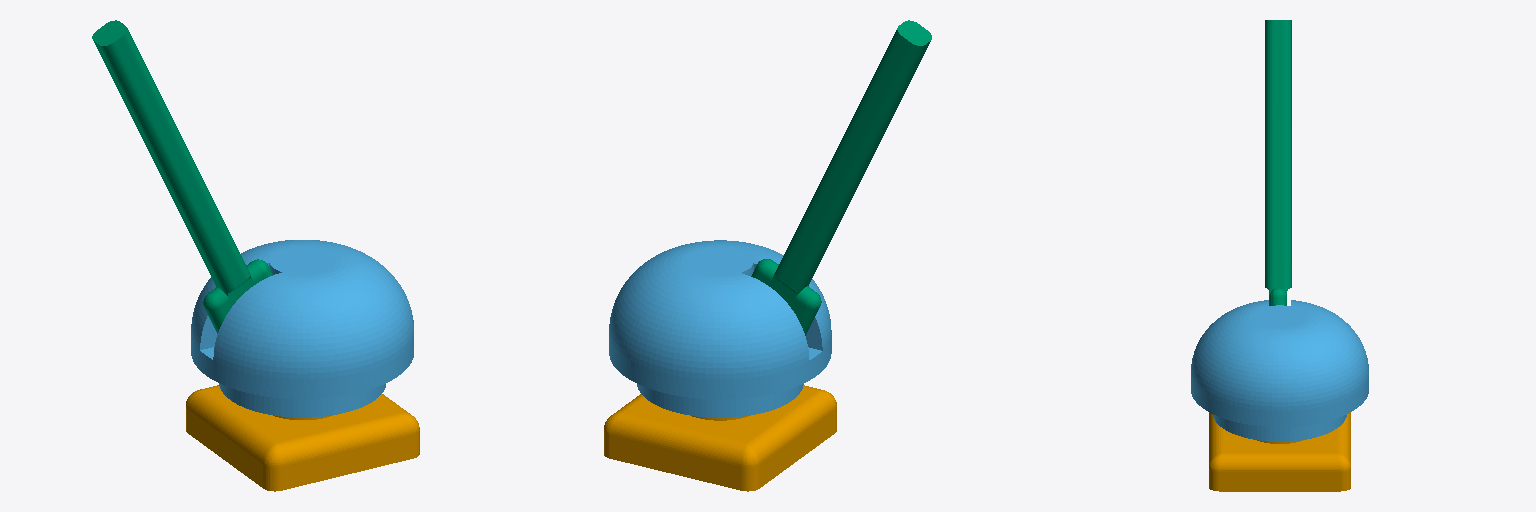
robot.urdf — Stationary2:
<?xml version="1.0" ?>
<robot name="Stationary2">

<material name="silver">
  <color rgba="0.700 0.700 0.700 1.000"/>
</material>

<link name="base_link">
  <inertial>
    <origin xyz="0 0 0" rpy="0 0 0"/>
    <mass value="1177.2759066350427"/>
    <inertia ixx="63.112479601788095" iyy="63.11247960178815" izz="106.46102483708898" ixy="2.1316282072803006e-14" iyz="2.842170943040401e-14" ixz="3.197442310920451e-14"/>
  </inertial>
  <visual>
    <origin xyz="0 0 0" rpy="0 0 0"/>
    <geometry>
      <mesh filename="meshes/base_link.stl" scale="0.001 0.001 0.001"/>
    </geometry>
    <material name="silver"/>
    <material/>
  </visual>
  <collision>
    <origin xyz="0 0 0" rpy="0 0 0"/>
    <geometry>
      <mesh filename="meshes/base_link.stl" scale="0.001 0.001 0.001"/>
    </geometry>
  </collision>
</link>

<link name="top_link1">
  <inertial>
    <origin xyz="0.012583396533743935 -0.00011332204850028615 0.30674596203189336" rpy="0 0 0"/>
    <mass value="2384.929798533893"/>
    <inertia ixx="175.79044494004165" iyy="165.97616164439933" izz="255.42395206575873" ixy="-0.07769351133150337" iyz="0.02384278437557441" ixz="-2.3775717701918495"/>
  </inertial>
  <visual>
    <origin xyz="0.110197 0.394703 -0.387866" rpy="0 0 0"/>
    <geometry>
      <mesh filename="meshes/top_link1.stl" scale="0.001 0.001 0.001"/>
    </geometry>
    <material name="silver"/>
    <material/>
  </visual>
  <collision>
    <origin xyz="0.110197 0.394703 -0.387866" rpy="0 0 0"/>
    <geometry>
      <mesh filename="meshes/top_link1.stl" scale="0.001 0.001 0.001"/>
    </geometry>
  </collision>
</link>

<link name="gun_link1">
  <inertial>
    <origin xyz="-0.32339267254868187 0.05000043011195898 0.693517784144477" rpy="0 0 0"/>
    <mass value="311.2806104005056"/>
    <inertia ixx="75.81633022547044" iyy="92.64316652922867" izz="17.716776526858098" ixy="5.338556263723149e-08" iyz="-1.1448344139353139e-07" ixz="34.620175924219325"/>
  </inertial>
  <visual>
    <origin xyz="0.385197 0.454441 -0.782866" rpy="0 0 0"/>
    <geometry>
      <mesh filename="meshes/gun_link1.stl" scale="0.001 0.001 0.001"/>
    </geometry>
    <material name="silver"/>
    <material/>
  </visual>
  <collision>
    <origin xyz="0.385197 0.454441 -0.782866" rpy="0 0 0"/>
    <geometry>
      <mesh filename="meshes/gun_link1.stl" scale="0.001 0.001 0.001"/>
    </geometry>
  </collision>
</link>

<joint name="Revolute_8" type="continuous">
  <origin xyz="-0.110197 -0.394703 0.387866" rpy="0 0 0"/>
  <parent link="base_link"/>
  <child link="top_link1"/>
  <axis xyz="-0.0 0.0 1.0"/>
</joint>
<transmission name="Revolute_8_tran">
  <type>transmission_interface/SimpleTransmission</type>
  <joint name="Revolute_8">
    <hardwareInterface>PositionJointInterface</hardwareInterface>
  </joint>
  <actuator name="Revolute_8_actr">
    <hardwareInterface>PositionJointInterface</hardwareInterface>
    <mechanicalReduction>1</mechanicalReduction>
  </actuator>
</transmission>

<joint name="Revolute_9" type="revolute">
  <origin xyz="-0.275 -0.059738 0.395" rpy="0 0 0"/>
  <parent link="top_link1"/>
  <child link="gun_link1"/>
  <axis xyz="-0.0 -1.0 0.0"/>
  <limit upper="1.134464" lower="-1.134464" effort="100" velocity="100"/>
</joint>
<transmission name="Revolute_9_tran">
  <type>transmission_interface/SimpleTransmission</type>
  <joint name="Revolute_9">
    <hardwareInterface>PositionJointInterface</hardwareInterface>
  </joint>
  <actuator name="Revolute_9_actr">
    <hardwareInterface>PositionJointInterface</hardwareInterface>
    <mechanicalReduction>1</mechanicalReduction>
  </actuator>
</transmission>

</robot>

--- Facts derived from the render (not from the file) ---
The picture shows the robot from 3 angles, left to right: view 1: azimuth 30°, elevation 25°; view 2: azimuth 150°, elevation 25°; view 3: azimuth 270°, elevation 25°; orthographic projection.
Model Stationary2 with 3 links and 2 joints (1 revolute, 1 continuous), rooted at base_link, posed every joint at zero.
Visible links, largest first — view 1: top_link1, base_link, gun_link1; view 2: top_link1, base_link, gun_link1; view 3: top_link1, base_link, gun_link1.
Link boxes in pixels (x1,y1,x2,y2): top_link1: (191,240,413,417); base_link: (186,385,419,491); gun_link1: (92,20,272,333); top_link1: (609,240,831,417); base_link: (604,385,836,491); gun_link1: (751,20,931,335); top_link1: (1191,300,1368,441); base_link: (1209,412,1350,491); gun_link1: (1265,20,1291,305).
Size in the robot's own frame: 1.57 by 0.9999 by 2.29 metres.
Meshes: 3 distinct files referenced, 3 mesh visuals loaded (3 binary STL).